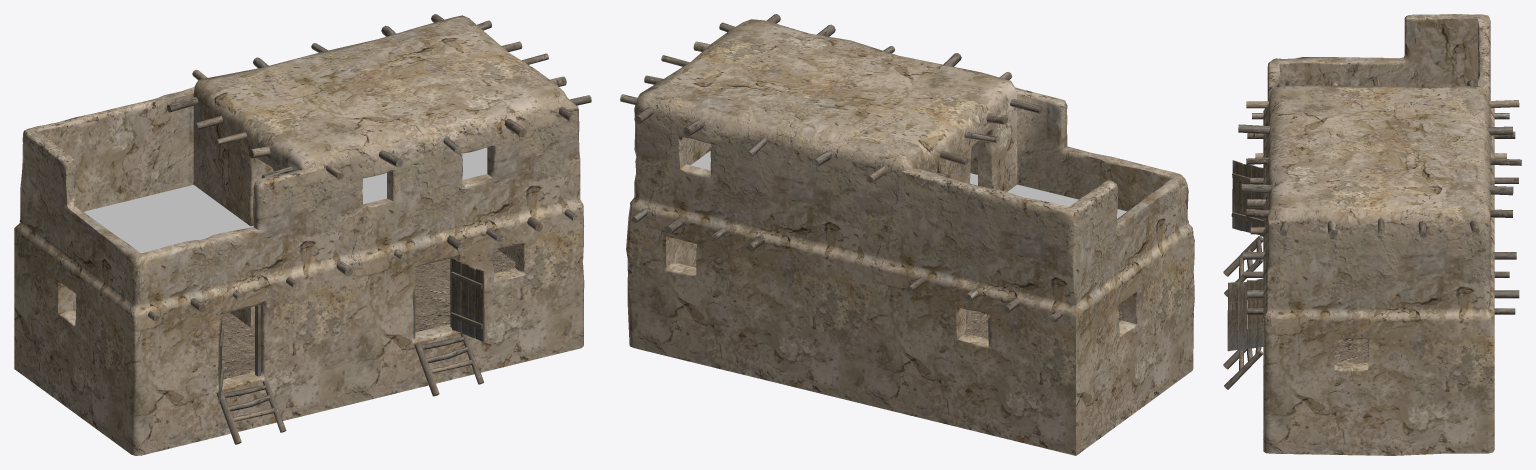
Rendered from House_10.fbx.
3 renders of one model, left to right at view 1: azimuth 30°, elevation 25°; view 2: azimuth 150°, elevation 25°; view 3: azimuth 270°, elevation 25°, orthographic. The views are drawn at different scales.
Parts seen in each view (by area): view 1: polySurface3795; view 2: polySurface3795; view 3: polySurface3795.
Boxes of the visible parts, x1,y1,x2,y2 form: polySurface3795: (14,14,591,455); polySurface3795: (620,14,1194,455); polySurface3795: (1223,14,1521,455).
Size of the model in its own units: 12.49 by 6.44 by 7.1.
